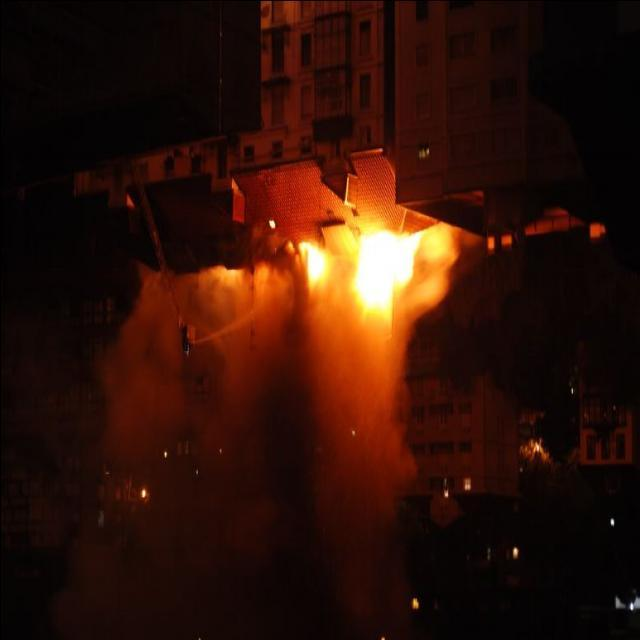Fire: (351, 224, 436, 326), (210, 266, 292, 304), (296, 238, 331, 294)
